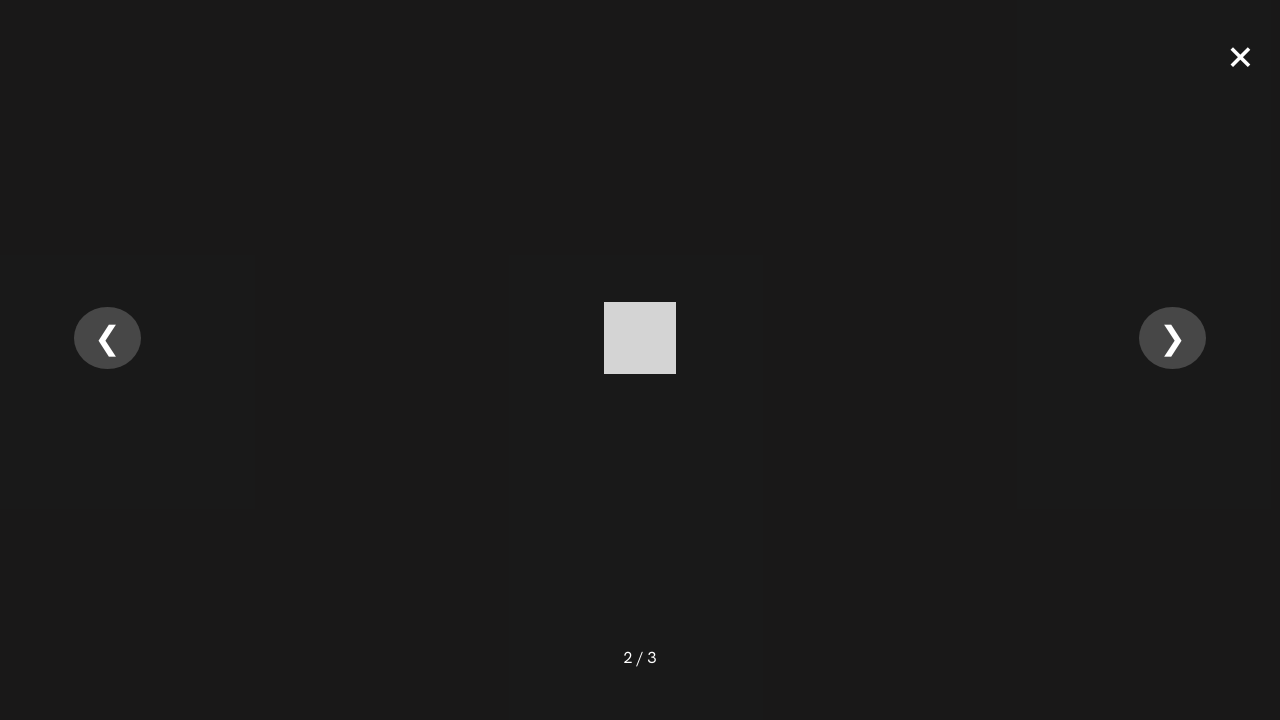
Test: Componente ImageGalleryModal (Pruebas Unitarias) › avanza a la siguiente imagen con el botón Siguiente y cicla al inicio
The width and height of the screenshot is (1280, 720).
// De la imagen 2 pasa a la imagen 3
Click the button "❯".
click(1173, 338)  # box 1139,307 -> 1206,369
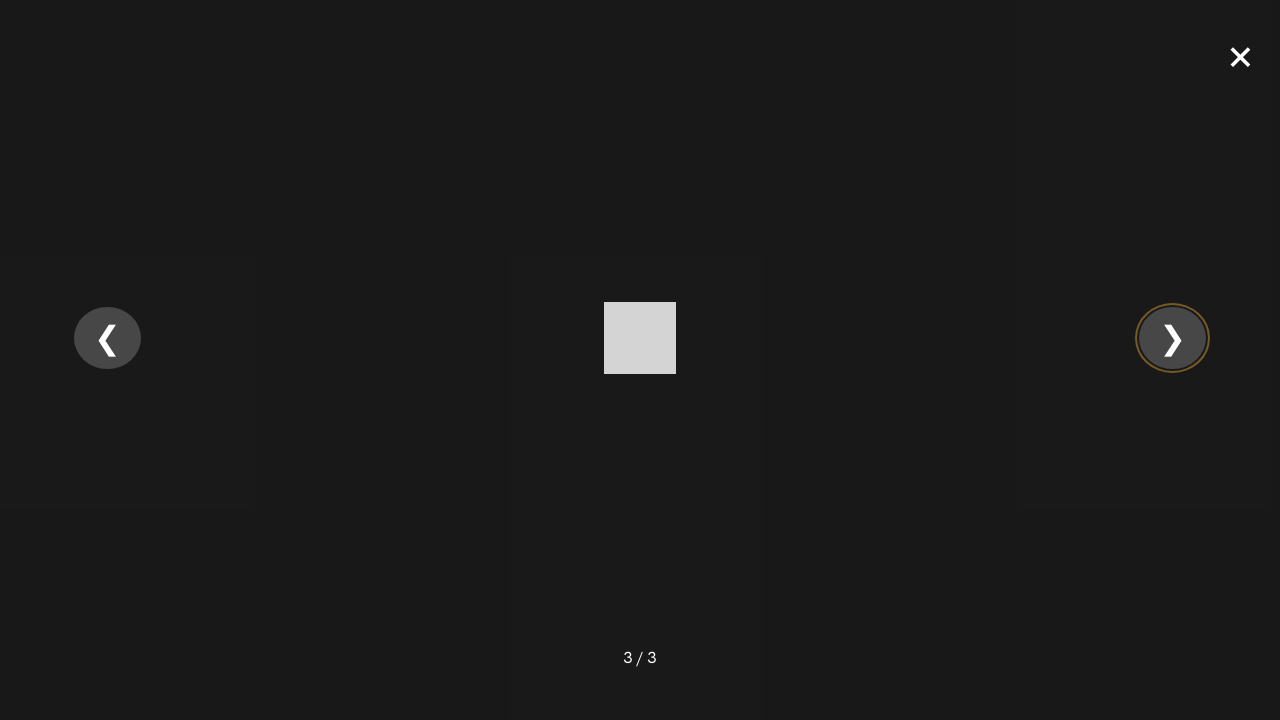
Check: the text "3 / 3" is shown, box 624,646 -> 656,670
// De la imagen 3 cicla de regreso a la imagen 1
Click the button "❯".
click(1173, 338)  # box 1139,307 -> 1206,369
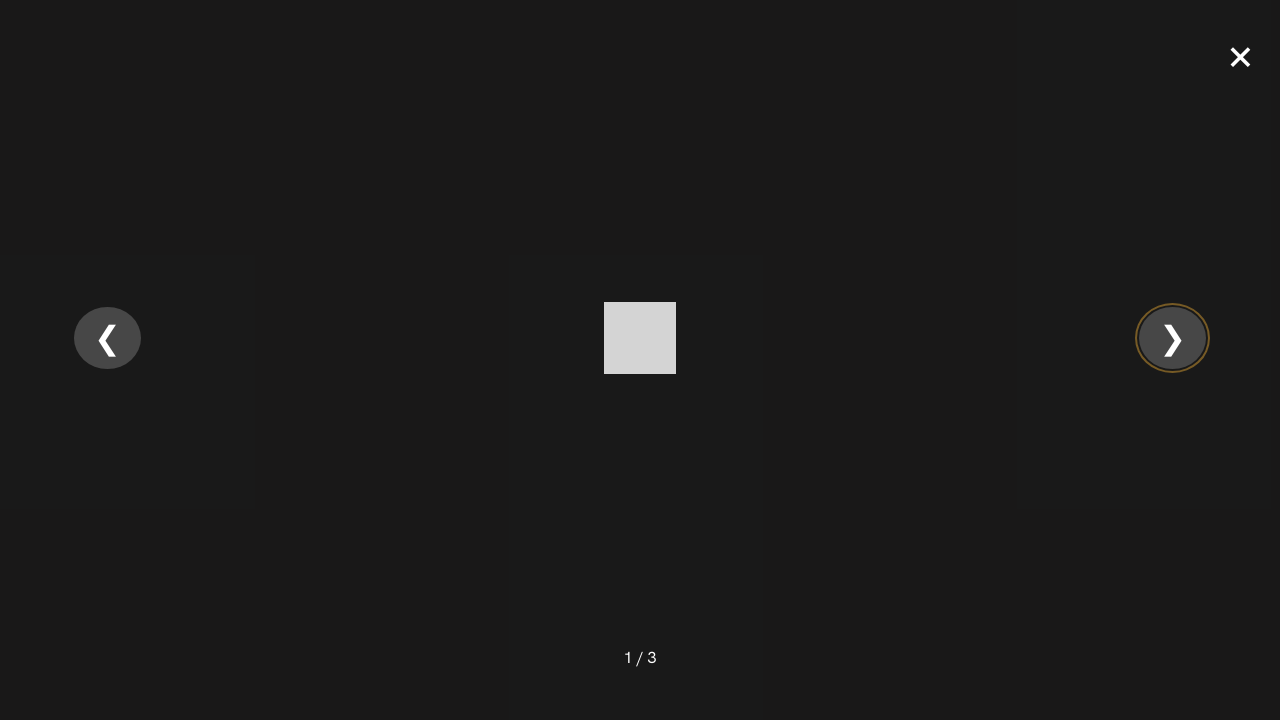
Check: the text "1 / 3" is shown, box 624,646 -> 656,670
